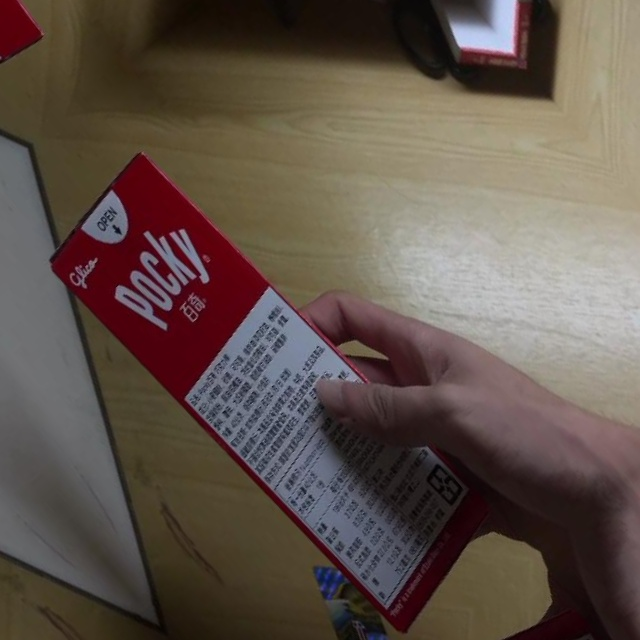Pocky: (28, 116, 525, 640)
